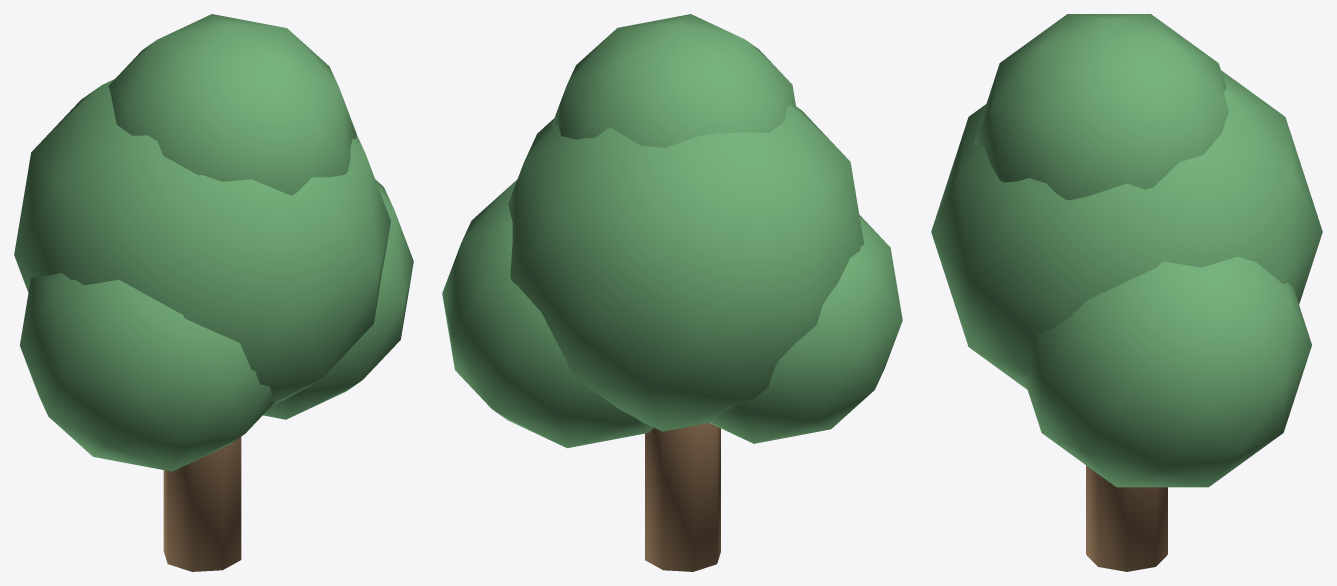
The model's file is tree_top.glb.
3 renders of one model, left to right at view 1: azimuth 30°, elevation 25°; view 2: azimuth 150°, elevation 25°; view 3: azimuth 270°, elevation 25°, orthographic. The views are drawn at different scales.
Visible parts, largest first — view 1: TreeTop; view 2: TreeTop; view 3: TreeTop.
Boxes of the visible parts, <box> form: TreeTop: <box>14,14,413,571</box>; TreeTop: <box>442,14,902,571</box>; TreeTop: <box>931,14,1322,571</box>.
Bounding box in the file's own units: 1.28 × 1.68 × 1.1.
